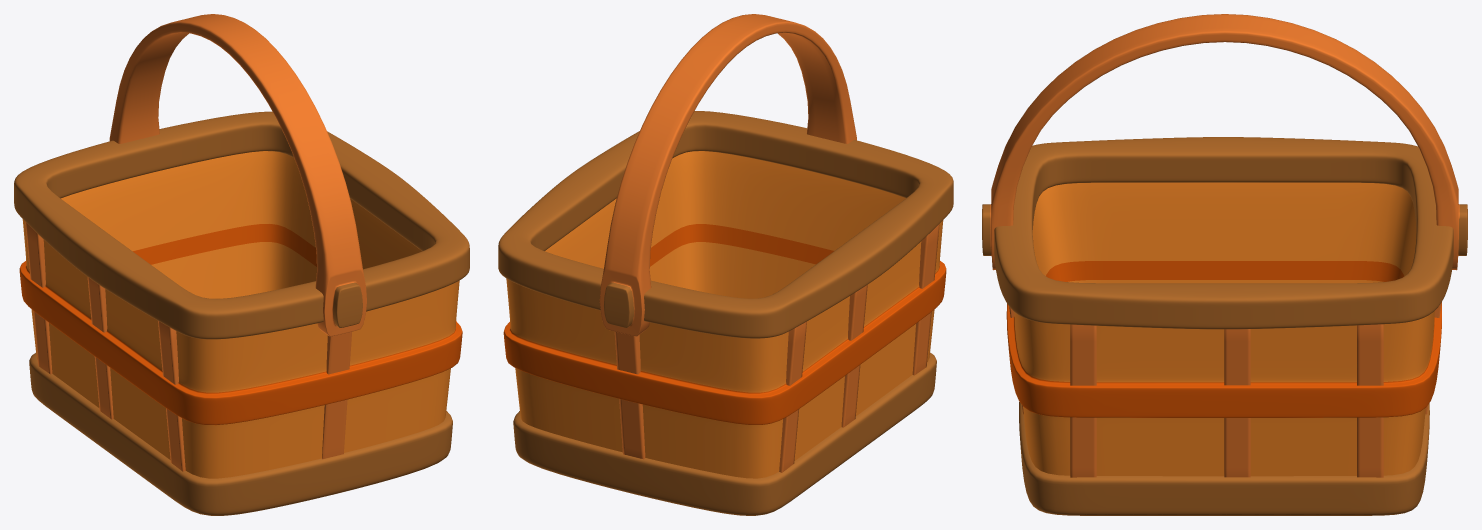
Rendered from KERANJANG.fbx.
3 renders of one model, left to right at view 1: azimuth 30°, elevation 25°; view 2: azimuth 150°, elevation 25°; view 3: azimuth 270°, elevation 25°, orthographic. The views are drawn at different scales.
Visible parts, largest first — view 1: Cube, Cube.003, Circle, Cube.002, Cube.001; view 2: Cube, Cube.003, Circle, Cube.002, Cube.001; view 3: Cube, Cube.003, Circle, Cube.002, Cube.001.
Boxes of the visible parts, box(x1,y1,x2,y2) form: Cube: box(19, 151, 462, 478); Cube.003: box(14, 111, 469, 339); Circle: box(109, 14, 366, 336); Cube.002: box(29, 353, 452, 515); Cube.001: box(25, 222, 351, 471); Cube: box(503, 151, 946, 478); Cube.003: box(498, 111, 953, 338); Circle: box(599, 14, 856, 336); Cube.002: box(513, 352, 936, 515); Cube.001: box(614, 224, 939, 472); Cube: box(1006, 182, 1441, 476); Cube.003: box(994, 137, 1453, 329); Circle: box(982, 14, 1467, 270); Cube.002: box(1019, 402, 1429, 515); Cube.001: box(1009, 302, 1441, 477).
Bounding box in the file's own units: 248 × 303 × 311.
